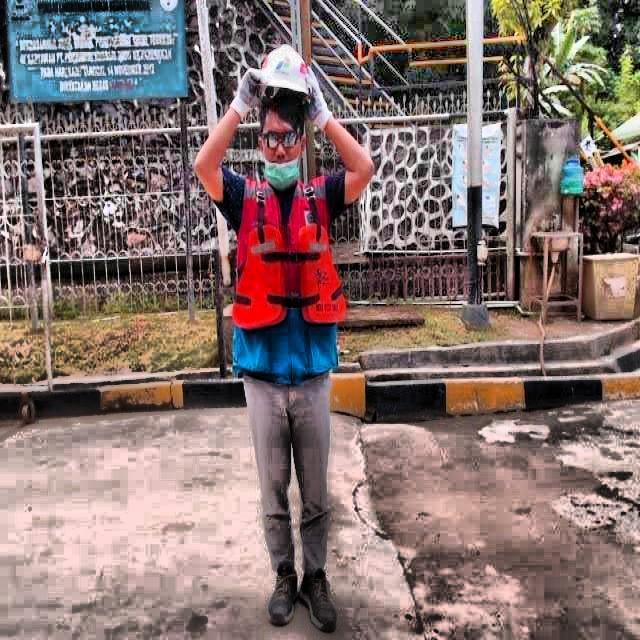safety_jacket: (234, 175, 345, 378)
